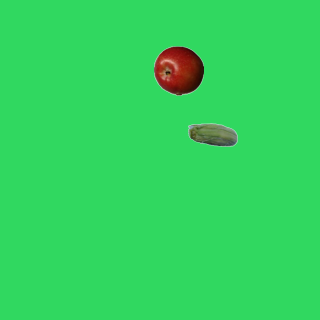Apple Braeburn: (153, 45, 203, 95)
Corn Husk: (187, 111, 237, 161)
